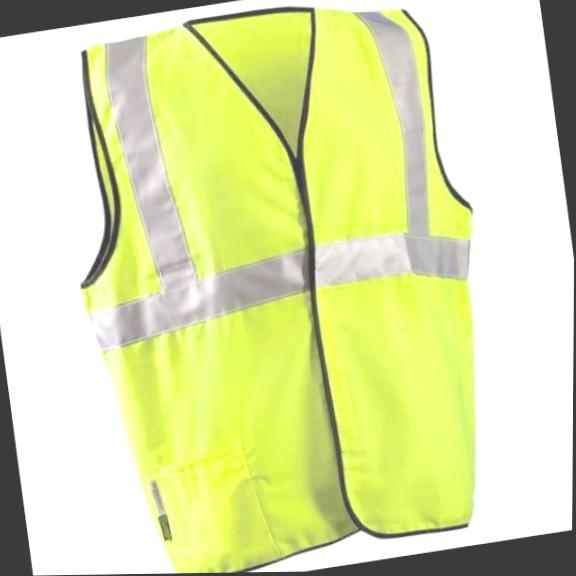safety_vest: (36, 0, 524, 575)
